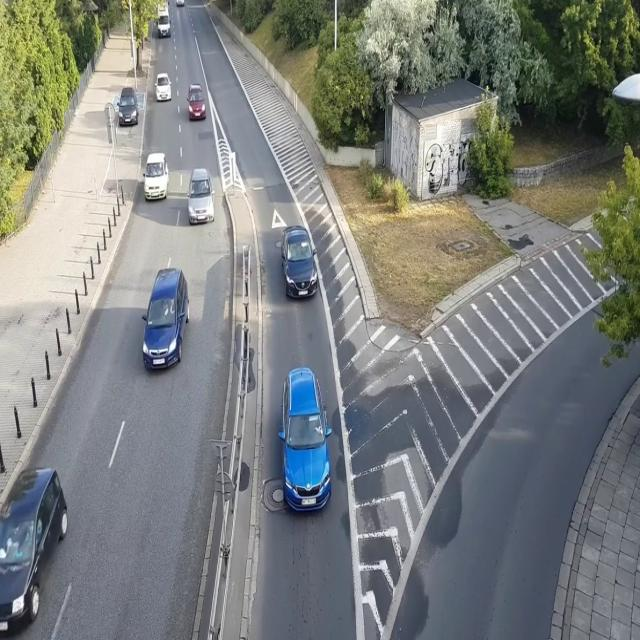car: (0, 465, 67, 638), (277, 364, 332, 514), (141, 266, 190, 372), (279, 225, 318, 299), (185, 167, 215, 224), (143, 151, 169, 202), (116, 86, 140, 126), (187, 84, 207, 120), (155, 73, 172, 102), (175, 0, 185, 7)
van: (156, 4, 172, 38)
